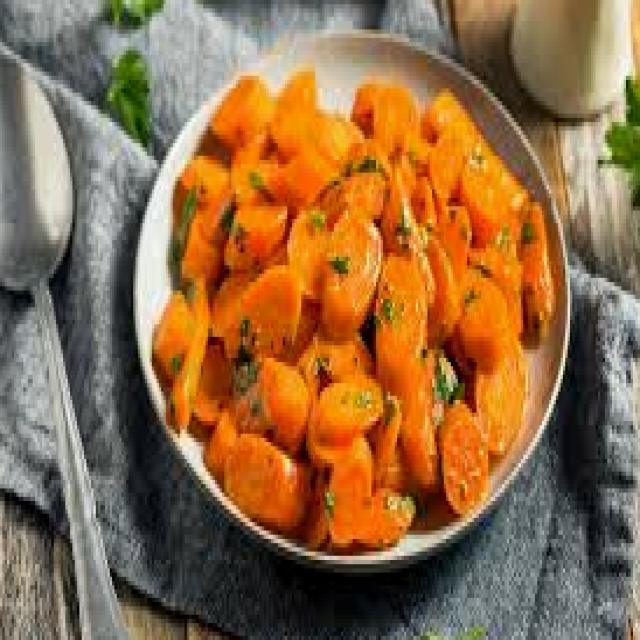wortel: (158, 67, 558, 550)
